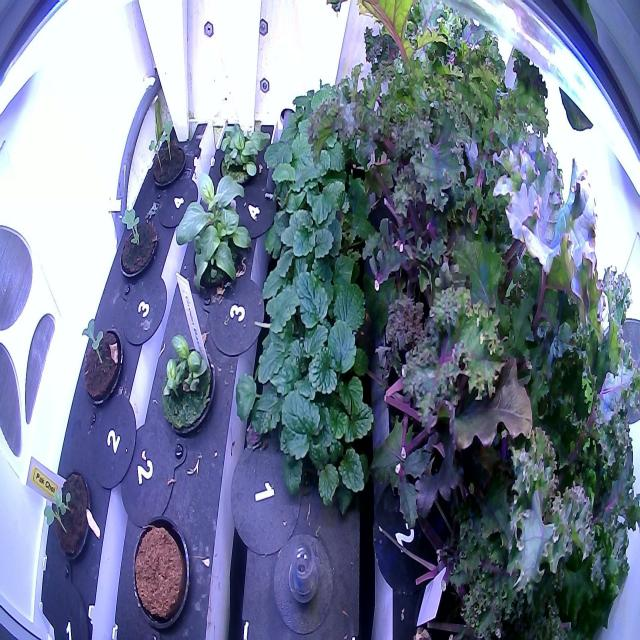germination: (41, 465, 94, 568), (76, 309, 126, 410), (145, 111, 194, 193), (112, 201, 159, 282)
pod: (128, 512, 194, 630)
